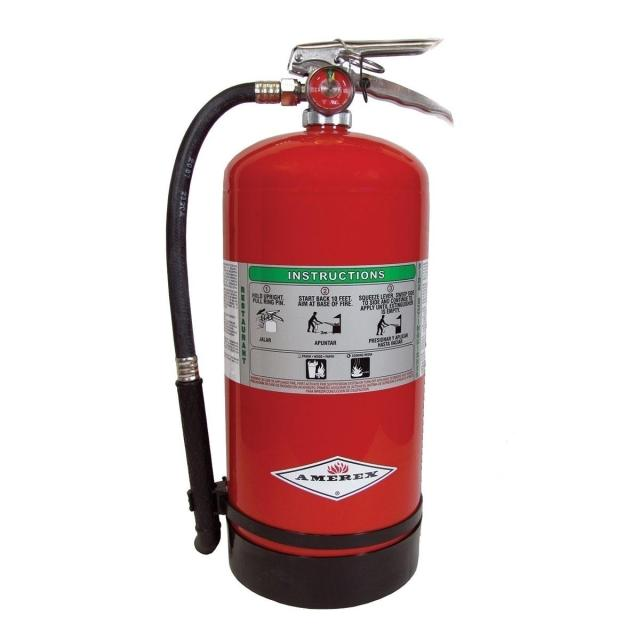fire_extinguisher: (159, 32, 458, 614)
